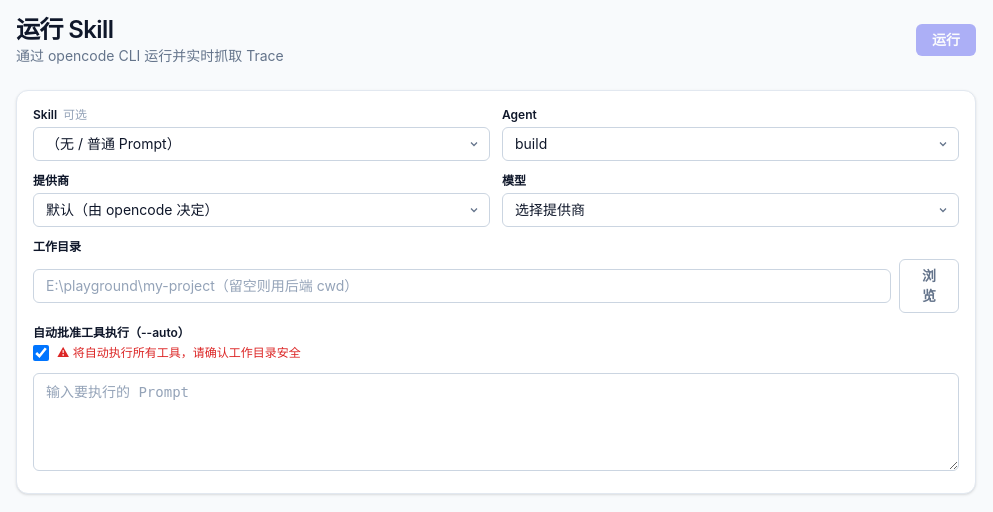
RunPage › renders provider→model cascade selects
The image size is (993, 512).
Expected: the dropdown labelled "模型" is disabled, left=502, top=193, right=959, bottom=227
Select "opencode-go" in the dropdown labelled "提供商". click: (262, 210)
box: left=33, top=193, right=490, bottom=227
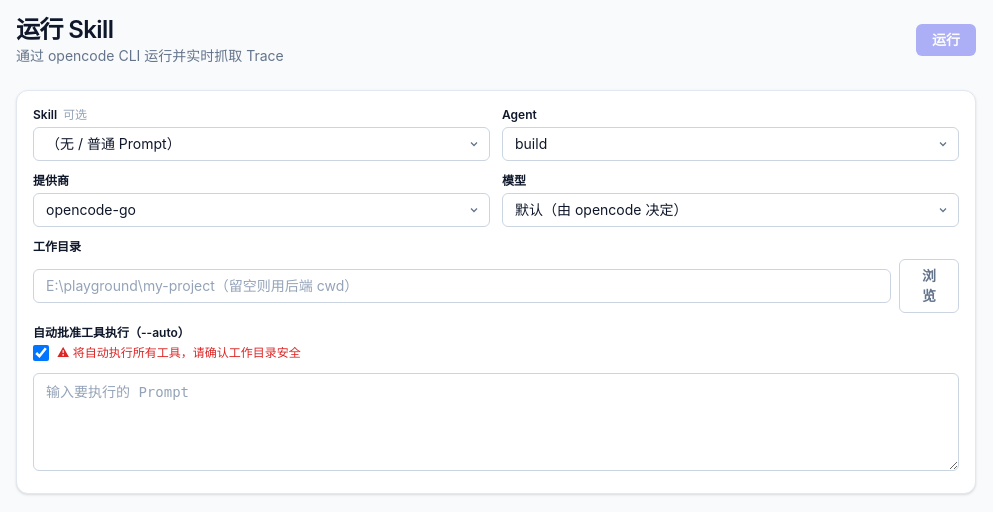
Expected: the dropdown labelled "模型" is enabled, left=502, top=193, right=959, bottom=227
